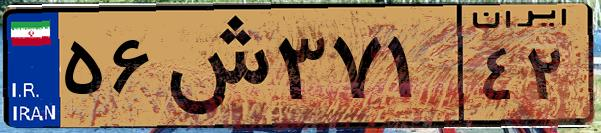1: (385, 28, 445, 110)
2: (525, 38, 570, 115)
3: (270, 28, 330, 110)
4: (475, 38, 525, 113)
5: (57, 26, 110, 100)
6: (110, 28, 158, 98)
7: (330, 28, 385, 110)
ش: (158, 12, 270, 120)
